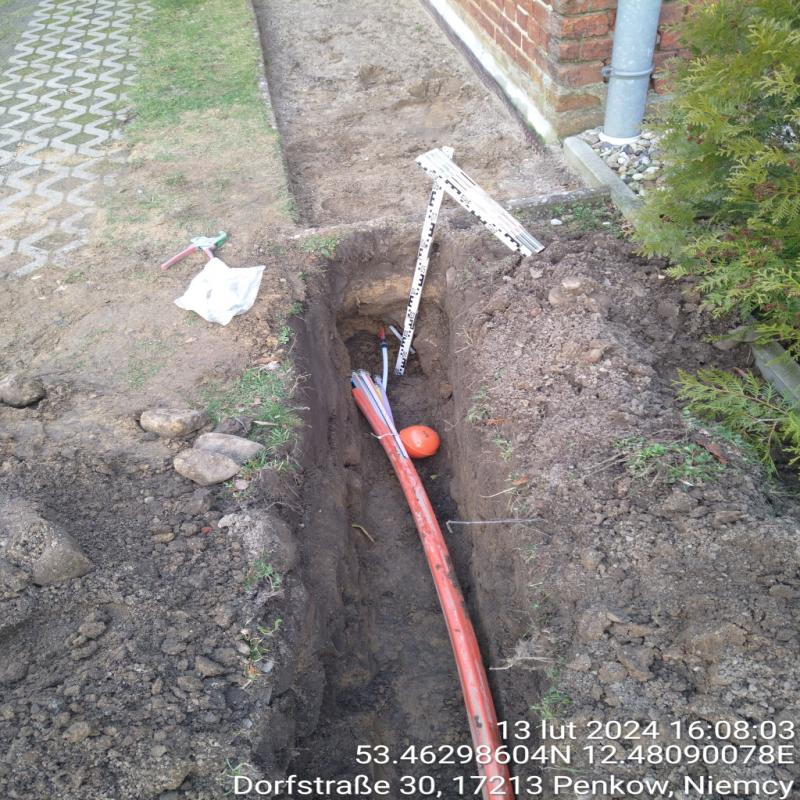Kugelmarker: (398, 426, 440, 458)
Orang-Speednetrohrchen: (350, 368, 496, 722)
